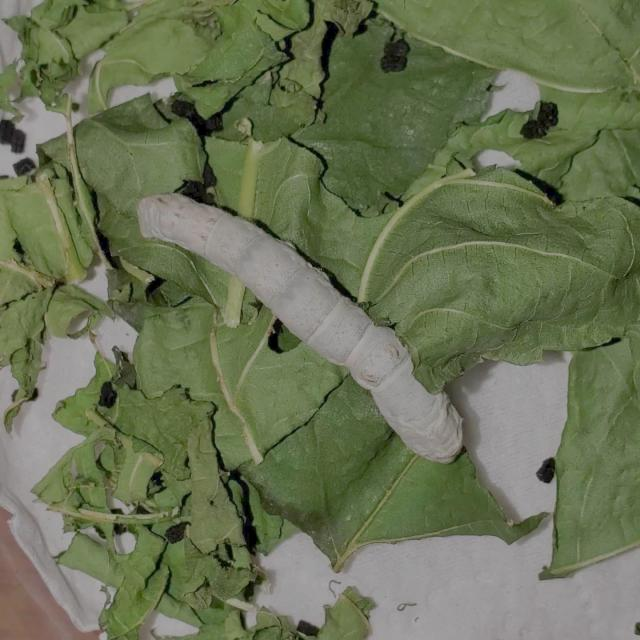Healthy: (131, 180, 471, 469)
